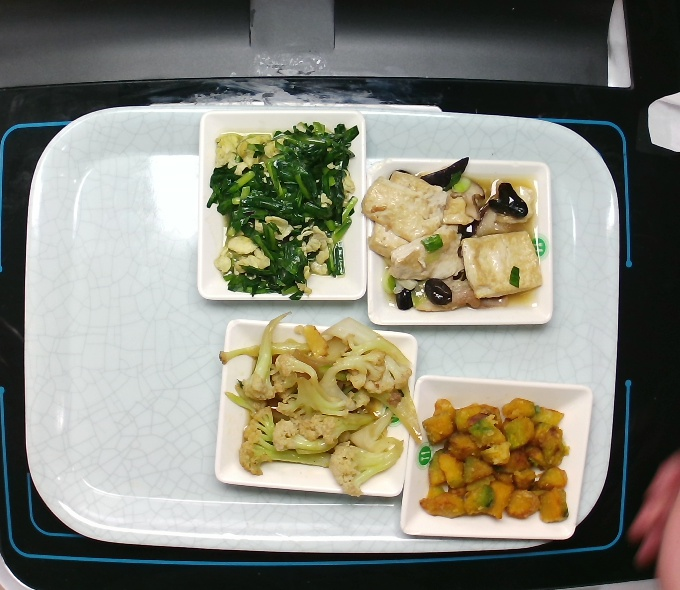wcq-DanHuangNanGua: (414, 395, 573, 532)
wcq-JiaChangDouFu: (358, 146, 542, 345)
wcq-JiuCaiJiDan: (199, 116, 367, 304)
wcq-QiuCai: (216, 315, 426, 503)
